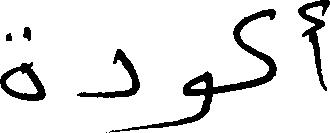X: (78, 44, 140, 132), (233, 4, 277, 95), (0, 22, 43, 105), (308, 0, 329, 95), (184, 66, 214, 128)
